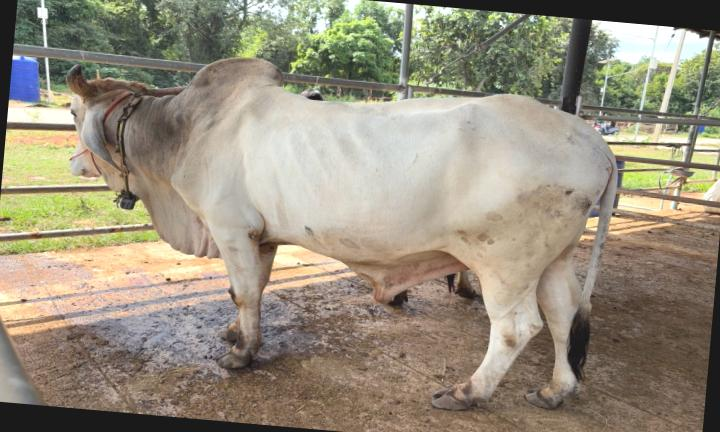Brahman: (67, 57, 618, 409)
